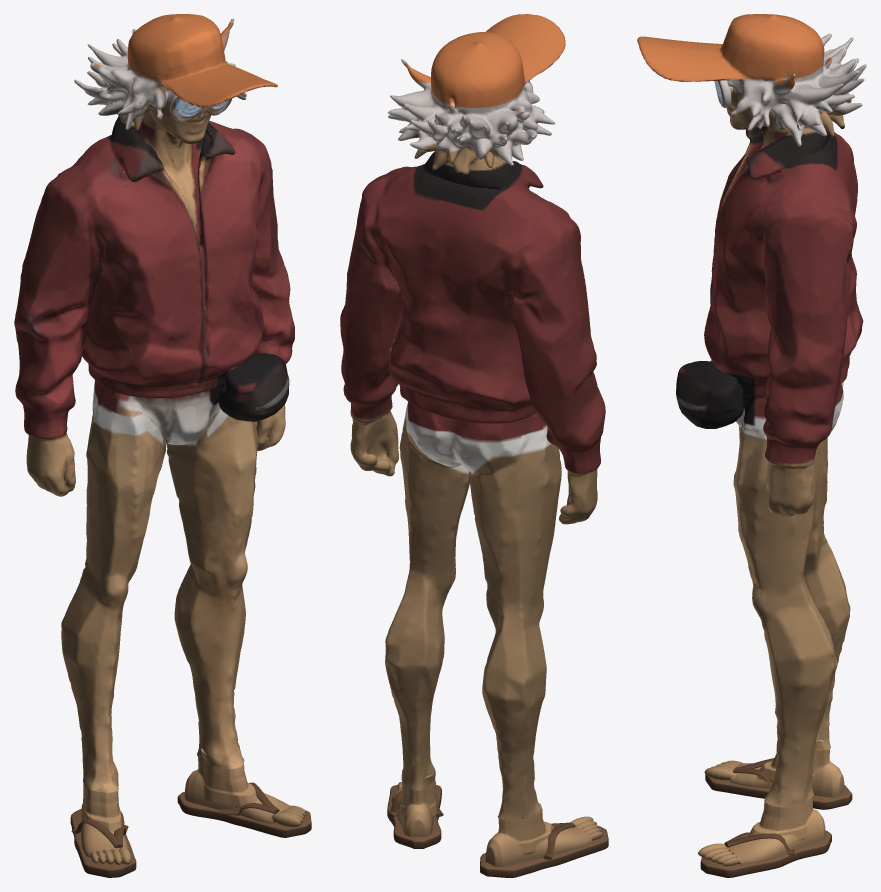
Rendered from homeless_guy.glb.
3 renders of one model, left to right at view 1: azimuth 30°, elevation 25°; view 2: azimuth 150°, elevation 25°; view 3: azimuth 270°, elevation 25°, orthographic. The views are drawn at different scales.
Parts seen in each view (by area): view 1: Mesh_0; view 2: Mesh_0; view 3: Mesh_0.
Boxes of the visible parts, box(x1,y1,x2,y2) form: Mesh_0: box(14, 14, 311, 877); Mesh_0: box(340, 14, 608, 877); Mesh_0: box(637, 14, 866, 877).
Size of the model in its own units: 0.6421 by 1.9 by 0.4891.
Materials: 1 (1 with a texture image).
